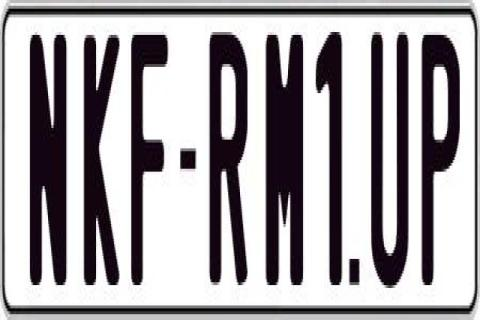0: (315, 29, 346, 294)
F: (128, 32, 166, 285)
K: (81, 35, 118, 303)
M: (264, 32, 308, 300)
N: (27, 35, 65, 288)
P: (422, 29, 463, 291)
R: (207, 29, 248, 288)
U: (370, 24, 414, 282)
